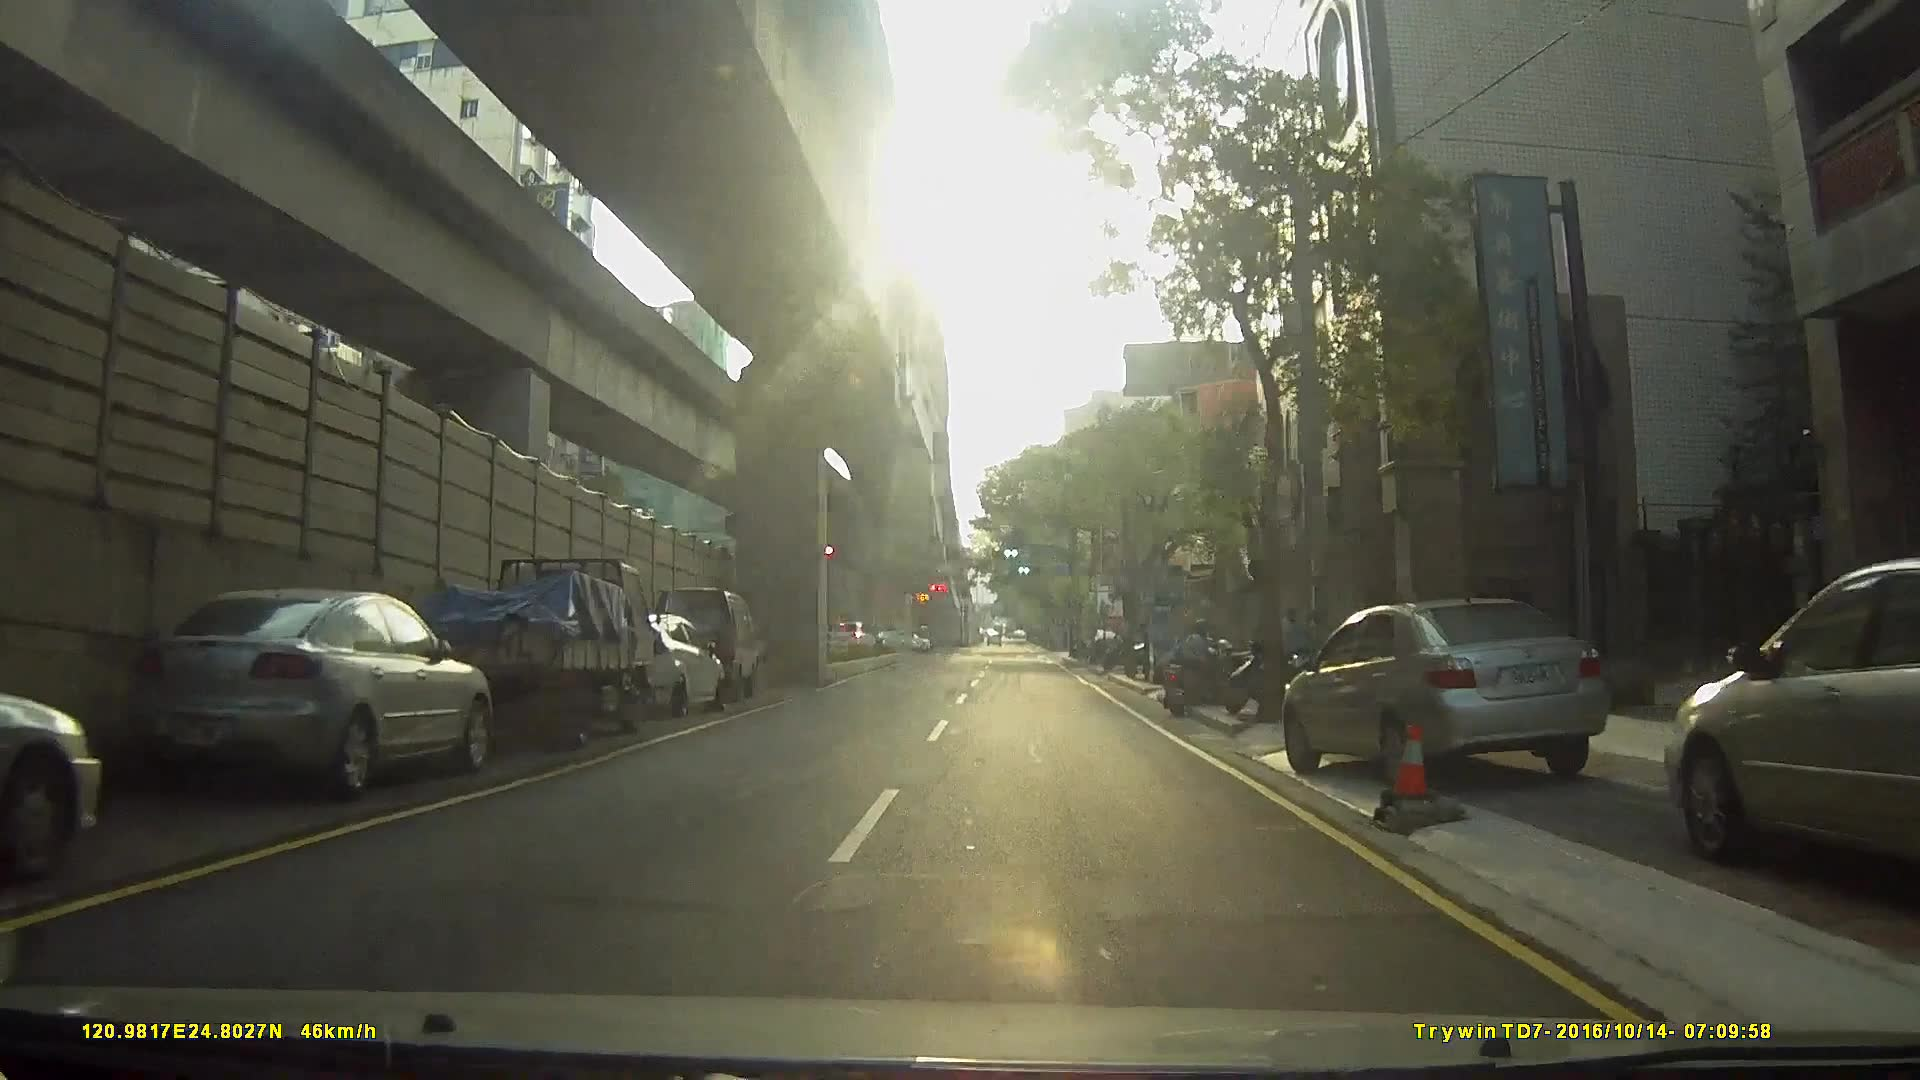rider: (1159, 617, 1245, 715)
vehicle: (1654, 551, 1920, 906), (127, 577, 507, 803), (1268, 588, 1626, 791), (398, 556, 681, 746), (1, 665, 104, 882), (578, 609, 724, 724), (648, 585, 762, 701), (820, 617, 876, 653)
